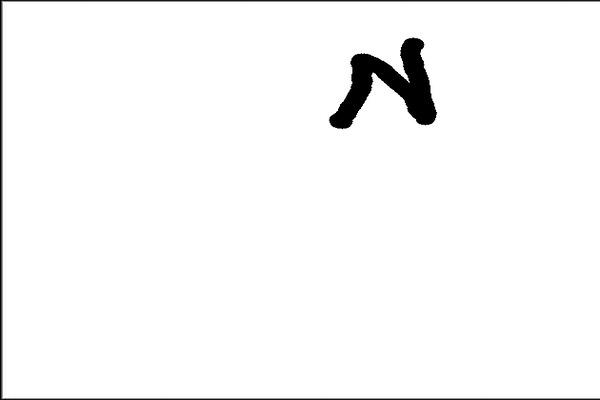N: (324, 31, 444, 131)
